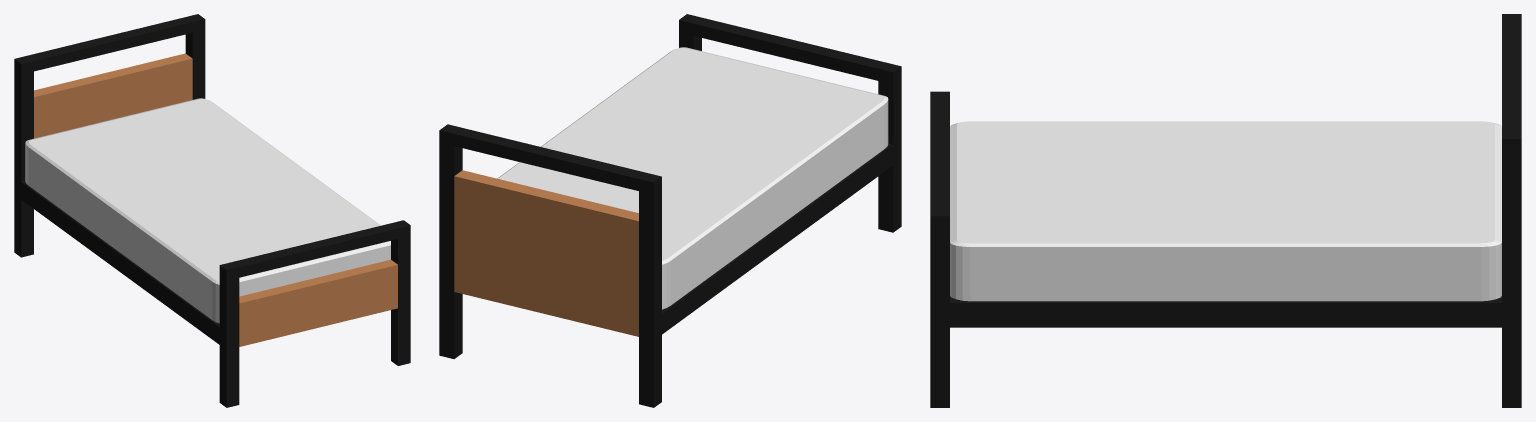
The model's file is ベッド.fbx.
The picture shows the model from 3 angles, left to right: view 1: azimuth 30°, elevation 25°; view 2: azimuth 150°, elevation 25°; view 3: azimuth 270°, elevation 25°; orthographic projection. The views are drawn at different scales.
Visible parts, largest first — view 1: ベッド; view 2: ベッド; view 3: ベッド.
Boxes of the visible parts, x1,y1,x2,y2 form: ベッド: (14, 14, 410, 407); ベッド: (439, 14, 901, 407); ベッド: (930, 14, 1521, 407).
Bounding box in the file's own units: 100 × 200 × 100.
